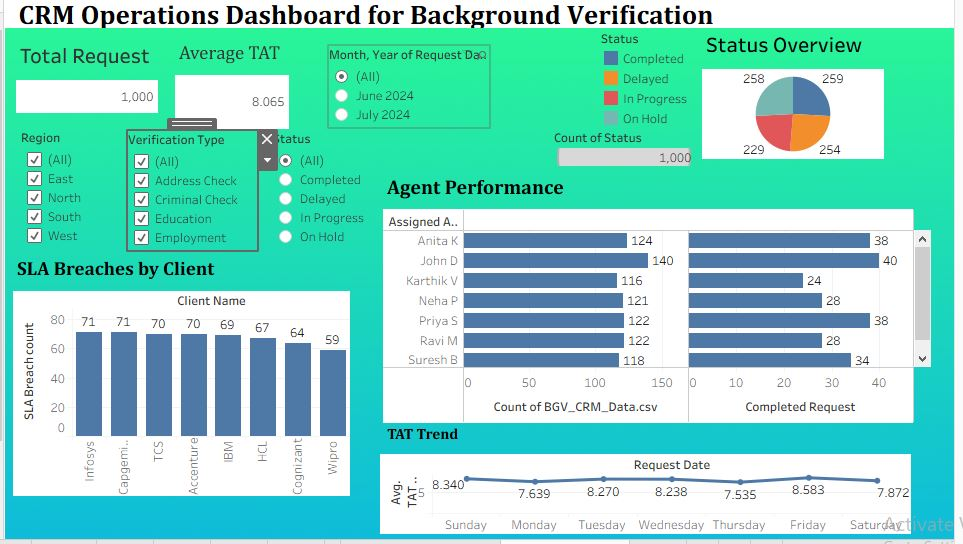

The page's visual inventory and layout, read from the dashboard file:
{"tool":"tableau","page":{"name":"Dashboard with Filters","canvas":[1000,1000],"units":"permille","ordinal":0},"visuals":[{"type":"title","box":[7.8,14.3,984.3,71.4]},{"type":"dashboard-object","box":[896.1,35.7,23.5,42.9]},{"type":"worksheet","title":"Sheet 3","mark":"Pie","box":[702.9,55.4,178.4,237.5]},{"type":"legend","title":"Sheet 3","param":"[federated.1ln2w2f0wrytc816xh5a10hf0qgy].[none:Status:nk]","box":[585.3,78.6,137.2,175]},{"type":"worksheet","title":"Total request","mark":"Automatic","box":[11.8,91.1,139.2,135.7]},{"type":"worksheet","title":"AVG TAT","mark":"Automatic","box":[167.7,91.1,111.8,164.3]},{"type":"filter","title":".","param":"[federated.1ln2w2f0wrytc816xh5a10hf0qgy].[my:Request_Date:ok]","box":[318.6,107.1,156.9,144.6]},{"type":"filter","title":".","param":"[federated.1ln2w2f0wrytc816xh5a10hf0qgy].[none:Region:nk]","box":[16.7,255.4,103.9,212.5]},{"type":"filter","title":".","param":"[federated.1ln2w2f0wrytc816xh5a10hf0qgy].[none:Status:nk]","box":[263.7,257.1,114.7,212.5]},{"type":"filter","title":".","param":"[federated.1ln2w2f0wrytc816xh5a10hf0qgy].[none:Verification_Type:nk]","box":[121.6,258.9,126.5,212.5]},{"type":"legend","title":"Sheet 3","param":"[federated.1ln2w2f0wrytc816xh5a10hf0qgy].[cnt:Status:qk]","box":[582.4,264.3,139.2,67.9]},{"type":"worksheet","title":"Sheet 5","mark":"Automatic","rows":["Assigned_Agent"],"cols":["BGV_CRM_Data.csv_CDB3831940974816B35CD6183C592CA4","Calculation_609111876726730752"],"box":[373.5,310.7,538.2,482.1]},{"type":"worksheet","title":".","mark":"Automatic","box":[41.2,314.3,333.3,328.6]},{"type":"worksheet","title":"Sheet 6","mark":"Automatic","rows":["Calculation_609111876727922690"],"cols":["Client_Name"],"box":[8.8,505.4,271.6,471.4]},{"type":"worksheet","title":"Sheet 4","mark":"Automatic","rows":["TAT_Days"],"cols":["Request_Date"],"box":[289.2,748.2,419.6,226.8]},{"type":"dashboard-object","box":[805.9,878.6,120.6,82.1]}]}

Visuals, with their boxes on the dashboard's canvas, which has no fixed pixel size, in thousandths of its width and height (x1, y1, x2, y2). These are canvas units, not pixel positions in the 963x544 screenshot, which may show the page scaled, cropped or inside an application window:
title: pyautogui.locateOnScreen(8, 14, 992, 86)
dashboard-object: pyautogui.locateOnScreen(896, 36, 920, 79)
"Sheet 3" worksheet (Pie marks): pyautogui.locateOnScreen(703, 55, 881, 293)
"Sheet 3" legend: pyautogui.locateOnScreen(585, 79, 722, 254)
"Total request" worksheet: pyautogui.locateOnScreen(12, 91, 151, 227)
"AVG TAT" worksheet: pyautogui.locateOnScreen(168, 91, 280, 255)
"." filter: pyautogui.locateOnScreen(319, 107, 476, 252)
"." filter: pyautogui.locateOnScreen(17, 255, 121, 468)
"." filter: pyautogui.locateOnScreen(264, 257, 378, 470)
"." filter: pyautogui.locateOnScreen(122, 259, 248, 471)
"Sheet 3" legend: pyautogui.locateOnScreen(582, 264, 722, 332)
"Sheet 5" worksheet: pyautogui.locateOnScreen(374, 311, 912, 793)
"." worksheet: pyautogui.locateOnScreen(41, 314, 374, 643)
"Sheet 6" worksheet: pyautogui.locateOnScreen(9, 505, 280, 977)
"Sheet 4" worksheet: pyautogui.locateOnScreen(289, 748, 709, 975)
dashboard-object: pyautogui.locateOnScreen(806, 879, 926, 961)
